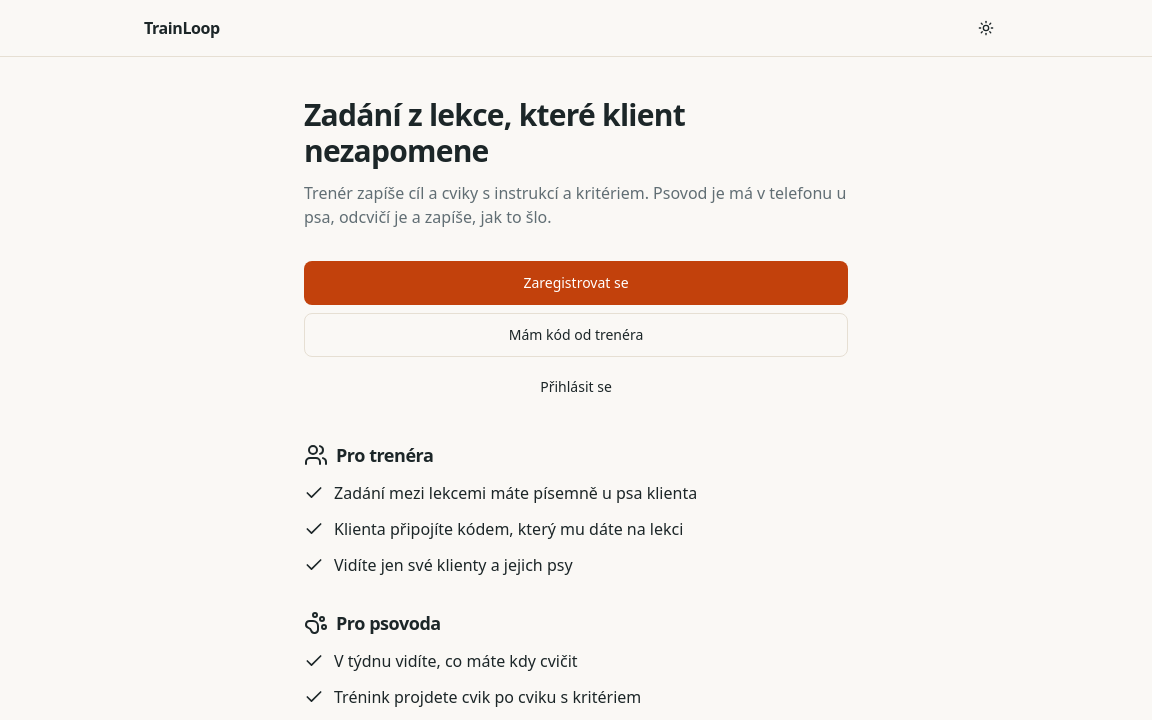
Test: owner registration › opens registration from the landing page and validates each required field
Click the link "Zaregistrovat se" at [576, 283], box [304,261,848,305]
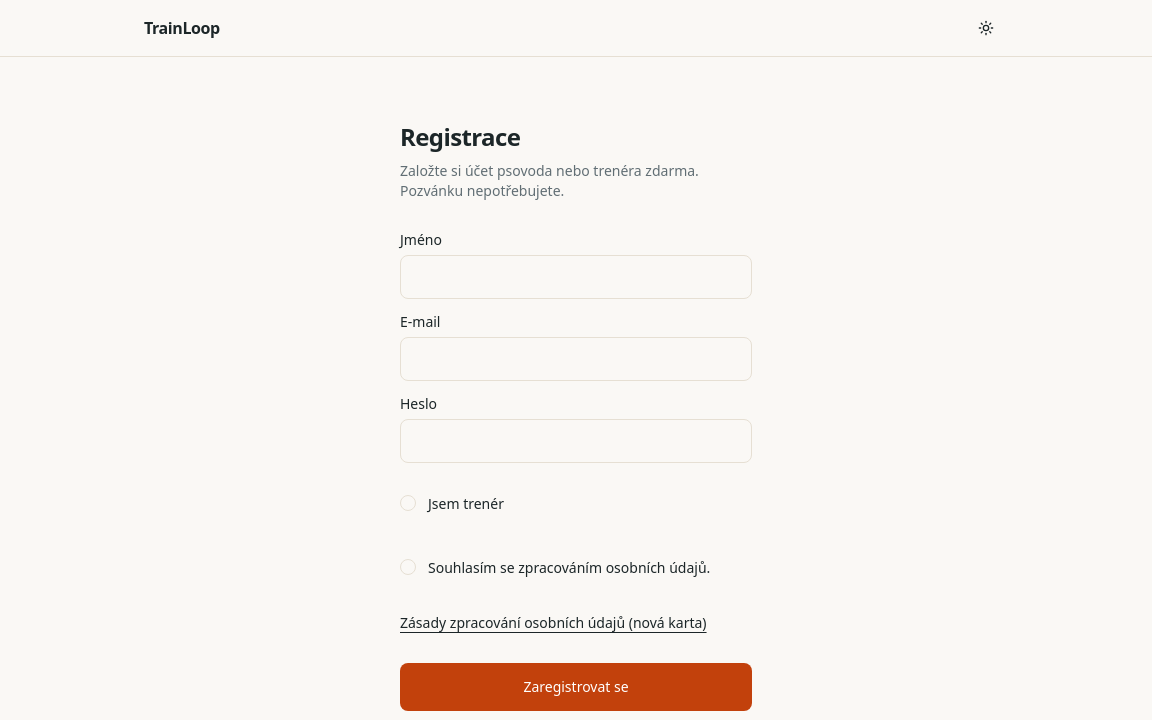
Result: the heading "Registrace" is shown at [400,120,520,153]
Click the button "Zaregistrovat se" at [576, 687], box [400,663,752,711]
(page scrolled)
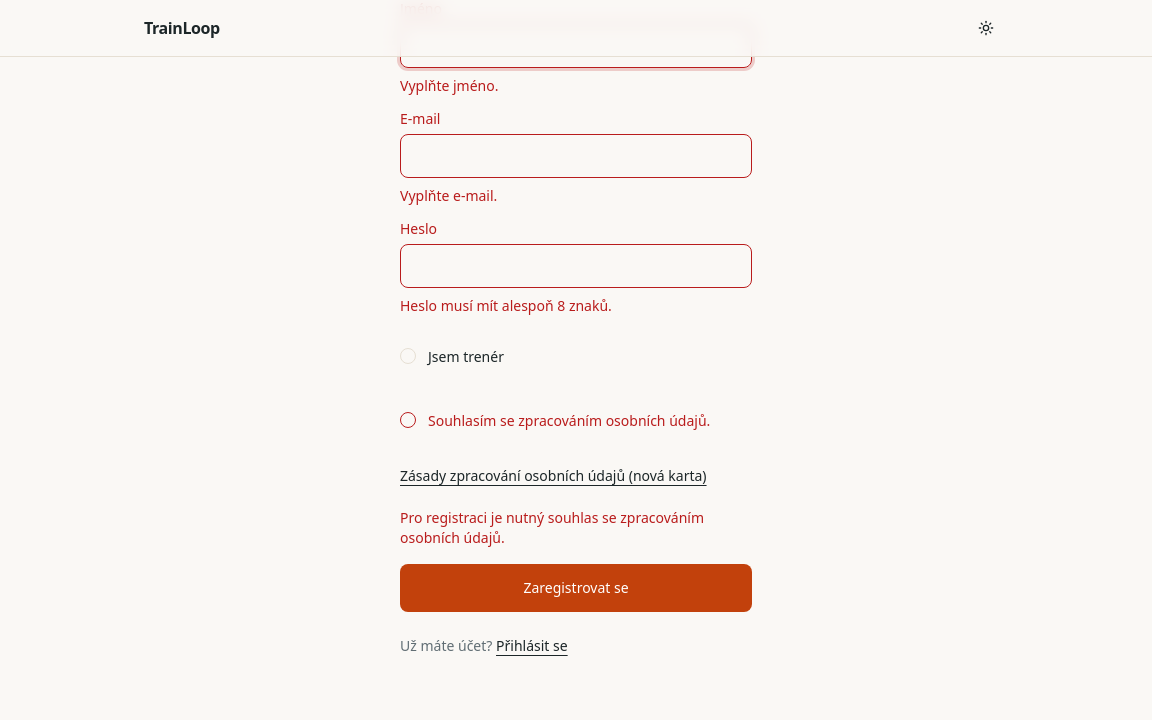
Result: the text "Vyplňte jméno." is shown at [400,76,498,95]
Result: the text "Vyplňte e-mail." is shown at [400,186,497,205]
Result: the text "Heslo musí mít alespoň 8 znaků." is shown at [400,296,612,315]
